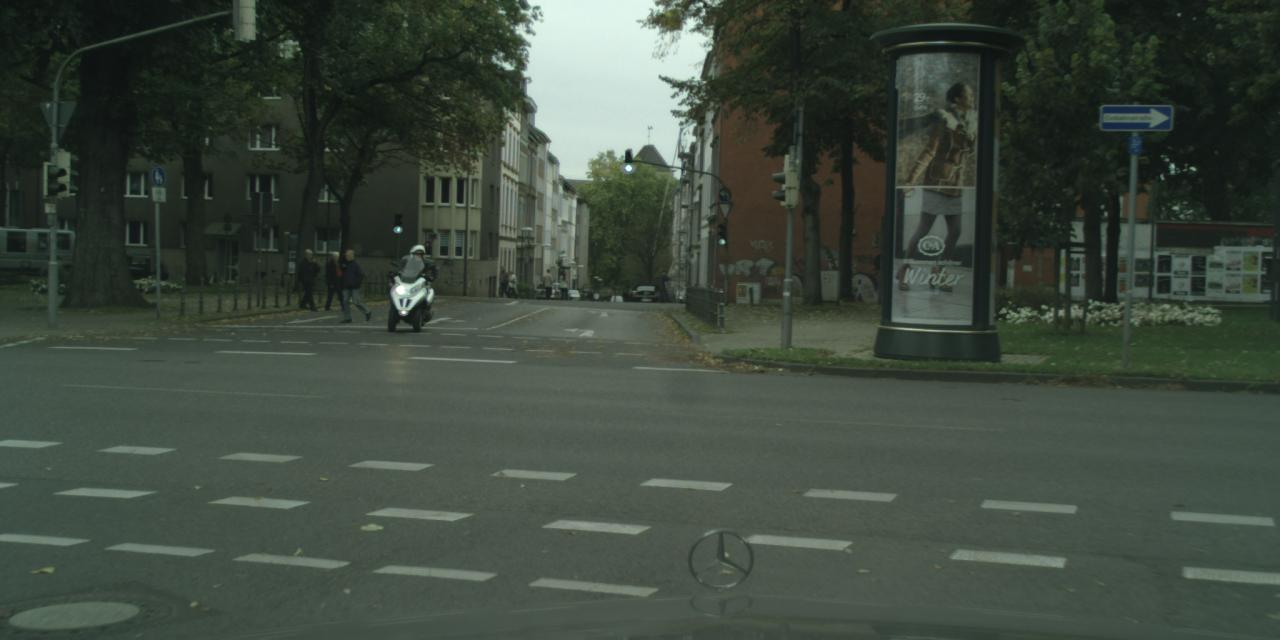ped: (339, 250, 369, 322), (398, 244, 426, 310), (296, 249, 320, 309), (324, 252, 348, 310), (656, 267, 670, 304), (540, 268, 554, 300), (496, 266, 509, 298), (558, 271, 570, 301), (506, 270, 516, 299), (586, 290, 592, 302), (593, 290, 598, 302)
